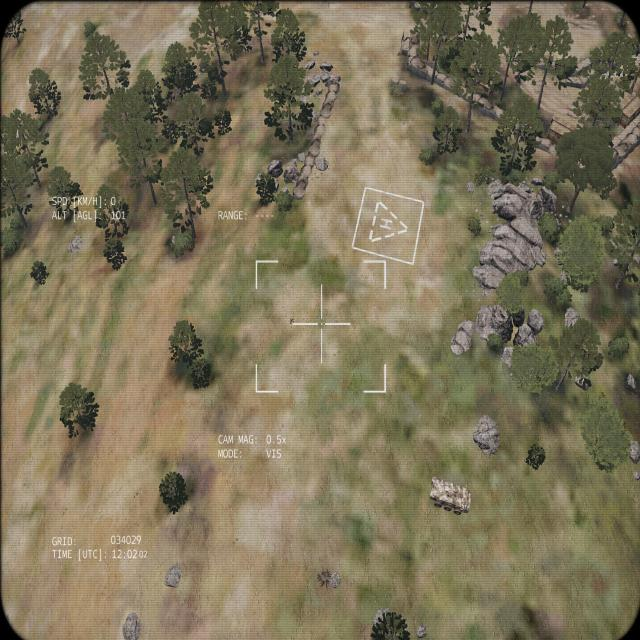apc: (428, 476, 472, 516)
